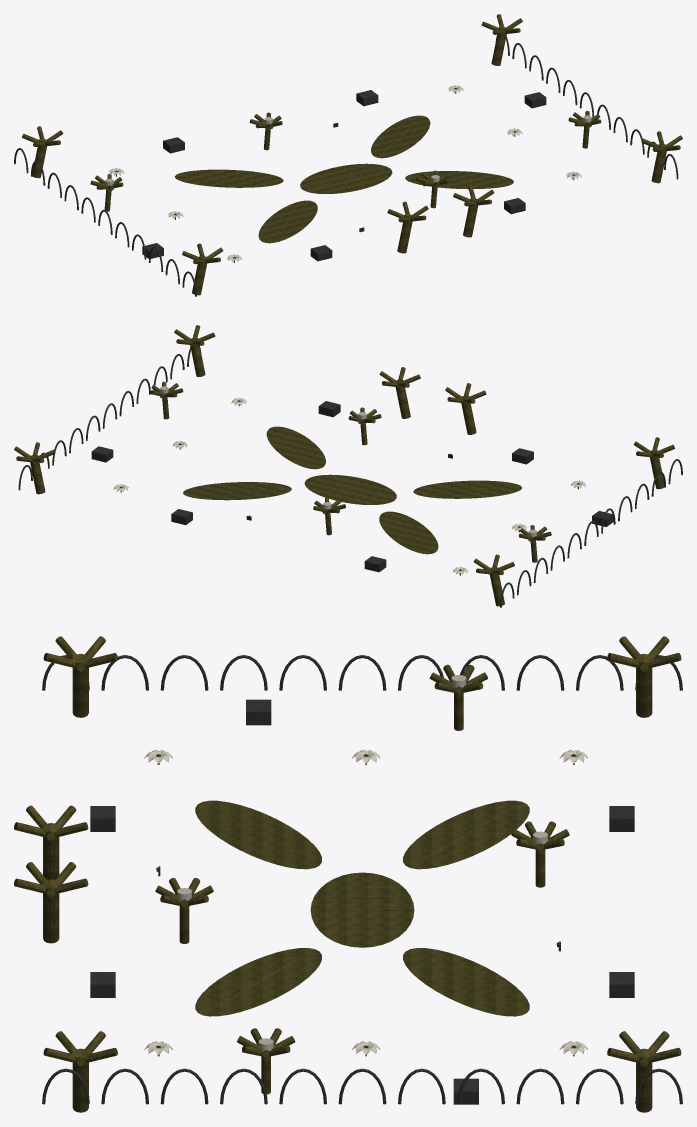
File: environment.glb
3 renders of one model, top to bottom at view 1: azimuth 30°, elevation 25°; view 2: azimuth 150°, elevation 25°; view 3: azimuth 270°, elevation 25°, orthographic. The views are drawn at different scales.
Parts seen in each view (by area): view 1: Environment_leaf.002, Environment_stone.008, Environment_petal.002; view 2: Environment_leaf.002, Environment_stone.008, Environment_petal.002; view 3: Environment_leaf.002, Environment_stone.008, Environment_petal.002.
Boxes of the visible parts, x1,y1,x2,y2 form: Environment_leaf.002: [22, 14, 682, 295]; Environment_stone.008: [14, 36, 678, 296]; Environment_petal.002: [105, 85, 591, 262]; Environment_leaf.002: [14, 325, 674, 606]; Environment_stone.008: [18, 347, 682, 607]; Environment_petal.002: [113, 386, 585, 574]; Environment_leaf.002: [14, 636, 681, 1112]; Environment_stone.008: [42, 655, 682, 1104]; Environment_petal.002: [144, 675, 587, 1055].
Bounding box in the file's own units: 136 × 10.72 × 90.23.
Materials: 5 (4 with a texture image).
